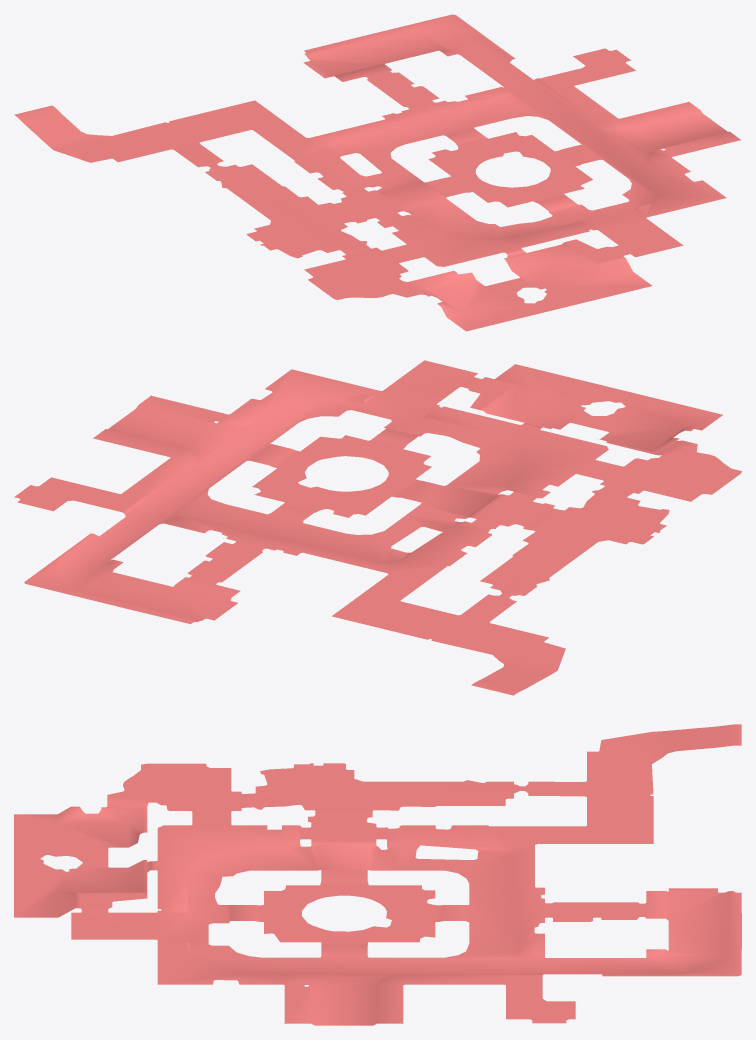
Rendered from Prohibited_HOTEL.fbx.
The picture shows the model from 3 angles, top to bottom: view 1: azimuth 30°, elevation 25°; view 2: azimuth 150°, elevation 25°; view 3: azimuth 270°, elevation 25°; orthographic projection. The views are drawn at different scales.
Parts seen in each view (by area): view 1: Hotel; view 2: Hotel; view 3: Hotel.
Boxes of the visible parts, x1,y1,x2,y2 form: Hotel: (14,14,741,331); Hotel: (14,360,741,695); Hotel: (14,724,741,1025).
Bounding box in the file's own units: 67.4 × 1.79 × 71.03.
